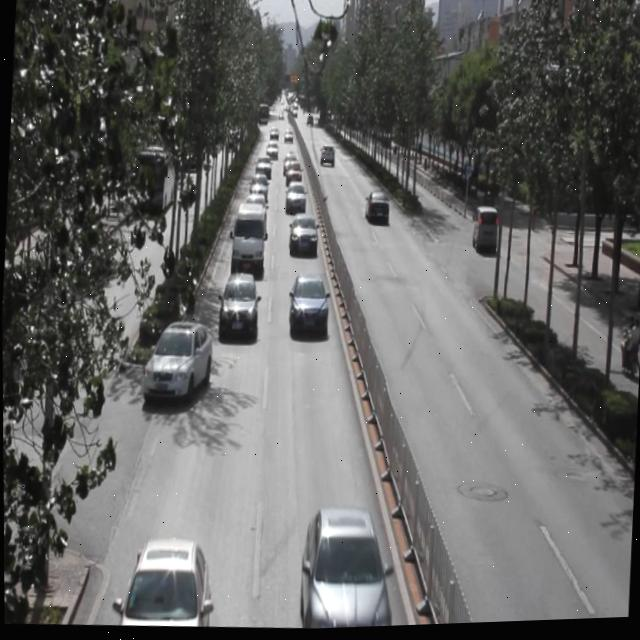car: (298, 505, 390, 631), (118, 537, 211, 631), (141, 319, 212, 406), (217, 271, 259, 344), (286, 275, 328, 339), (286, 213, 318, 259), (363, 189, 388, 228), (284, 182, 305, 214), (243, 192, 263, 220), (248, 173, 267, 200), (284, 161, 302, 188)
truck: (230, 202, 267, 275), (470, 204, 498, 254)
